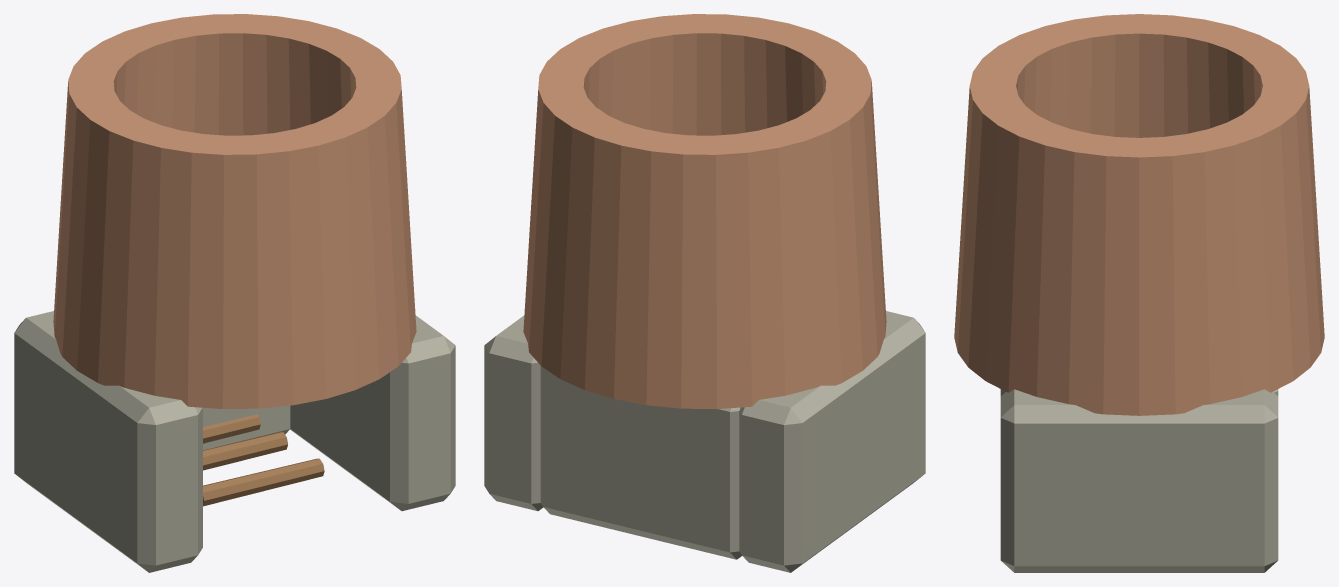
The picture shows the model from 3 angles, left to right: view 1: azimuth 30°, elevation 25°; view 2: azimuth 150°, elevation 25°; view 3: azimuth 270°, elevation 25°; orthographic projection.
Parts seen in each view (by area): view 1: CE-053 Open-front shell-lime kiln batched; view 2: CE-053 Open-front shell-lime kiln batched; view 3: CE-053 Open-front shell-lime kiln batched.
Boxes of the visible parts, x1,y1,x2,y2 form: CE-053 Open-front shell-lime kiln batched: (14,14,455,572); CE-053 Open-front shell-lime kiln batched: (484,14,925,572); CE-053 Open-front shell-lime kiln batched: (954,14,1324,572).
Bounding box in the file's own units: 1.21 × 1.48 × 1.2.
